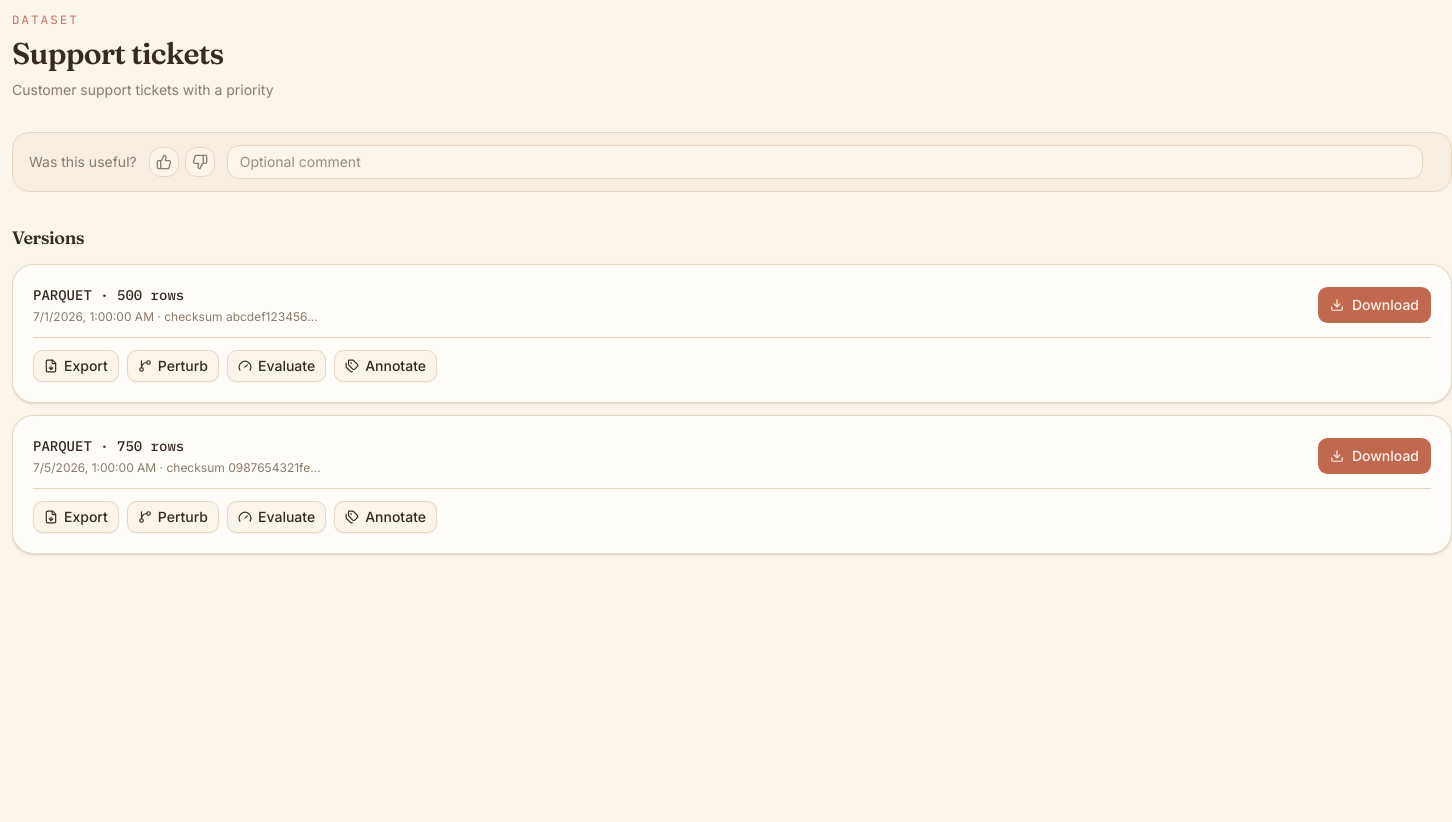
Scenario: dataset versions + download › surfaces an inline error if the streamed download fails
Click the button "Download" in the row of "abcdef123456" at coordinates (1374, 305), box [1318, 287, 1431, 323]
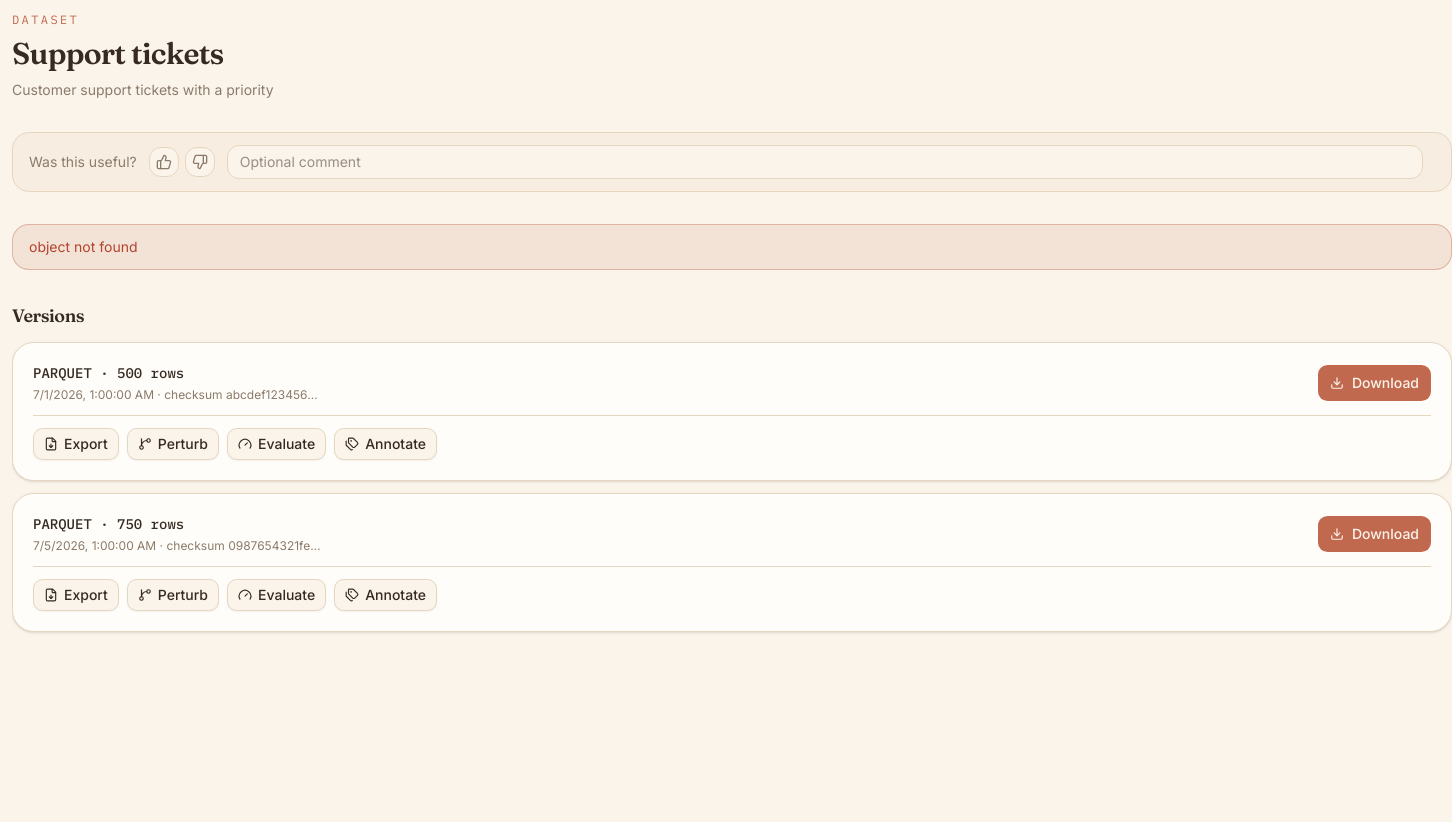
Expected: the message reads "object not found", [29, 238, 138, 255]
